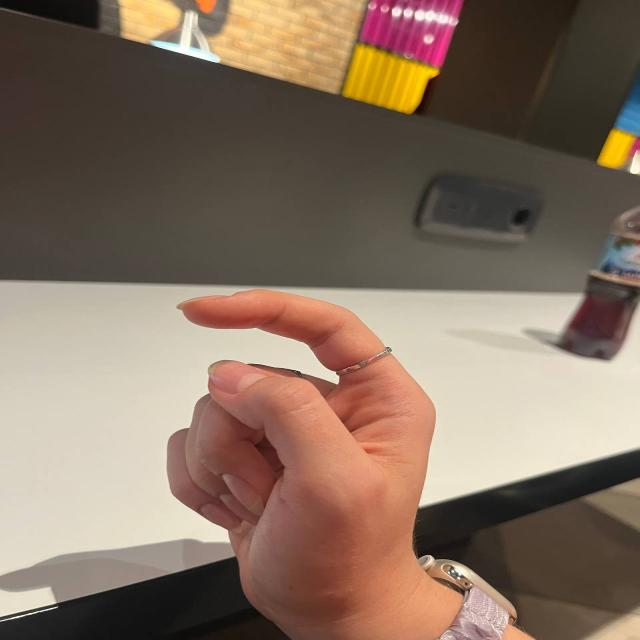kh: (138, 293, 502, 587)
